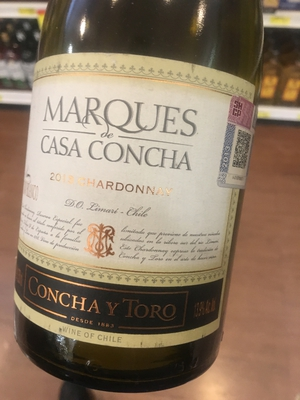marques de casa concha chardonnay: (15, 23, 269, 374)
